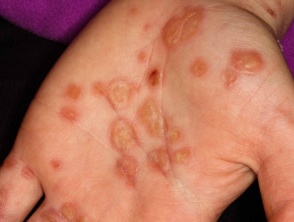SJS-TEN: (33, 0, 291, 220), (34, 198, 93, 222)
